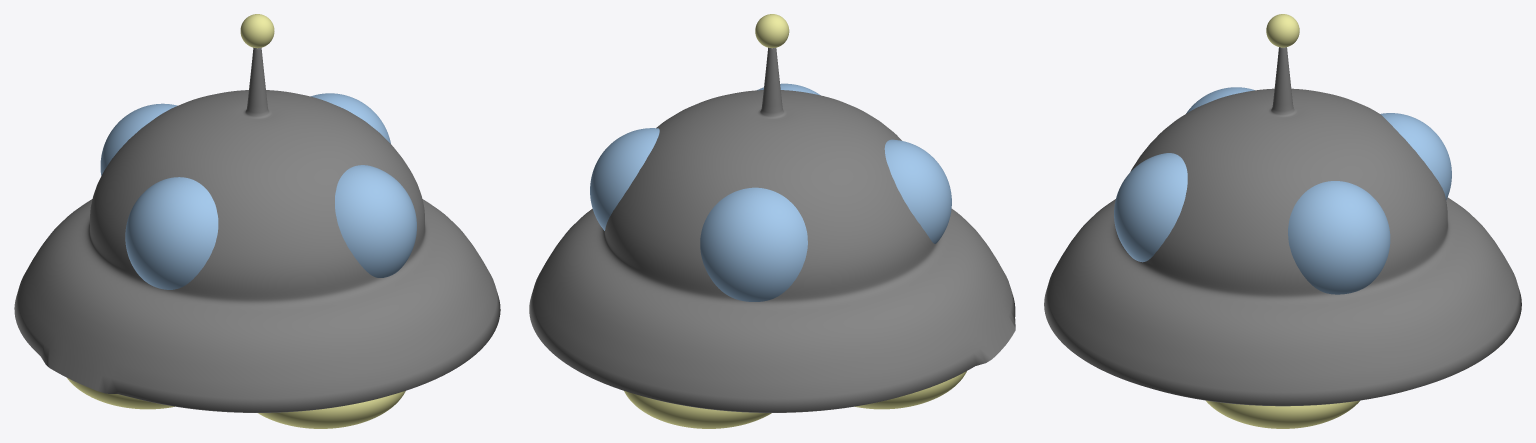
File: UFO_lowpoly.fbx
3 views of the same model, side by side, from view 1: azimuth 30°, elevation 25°; view 2: azimuth 150°, elevation 25°; view 3: azimuth 270°, elevation 25° (orthographic).
Parts seen in each view (by area): view 1: UFO; view 2: UFO; view 3: UFO.
Part boxes in pixels (left/top/right/bottom): UFO: left=14, top=14, right=500, bottom=428; UFO: left=529, top=14, right=1015, bottom=428; UFO: left=1044, top=14, right=1521, bottom=428.
Bounding box in the file's own units: 98.65 × 78.09 × 97.81.
